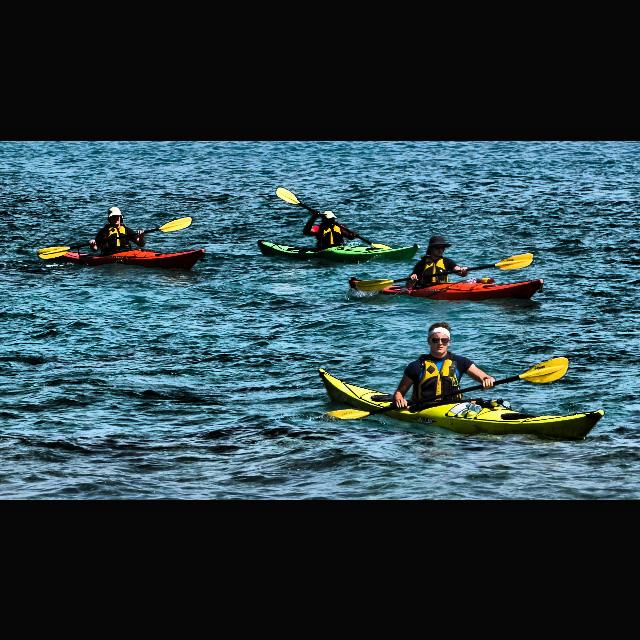kayak: (319, 366, 605, 440), (346, 275, 544, 299), (258, 238, 420, 262), (46, 246, 206, 270)
